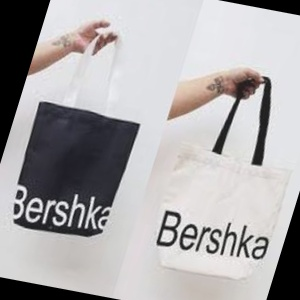bershka: (91, 93, 300, 300), (89, 86, 167, 297)
